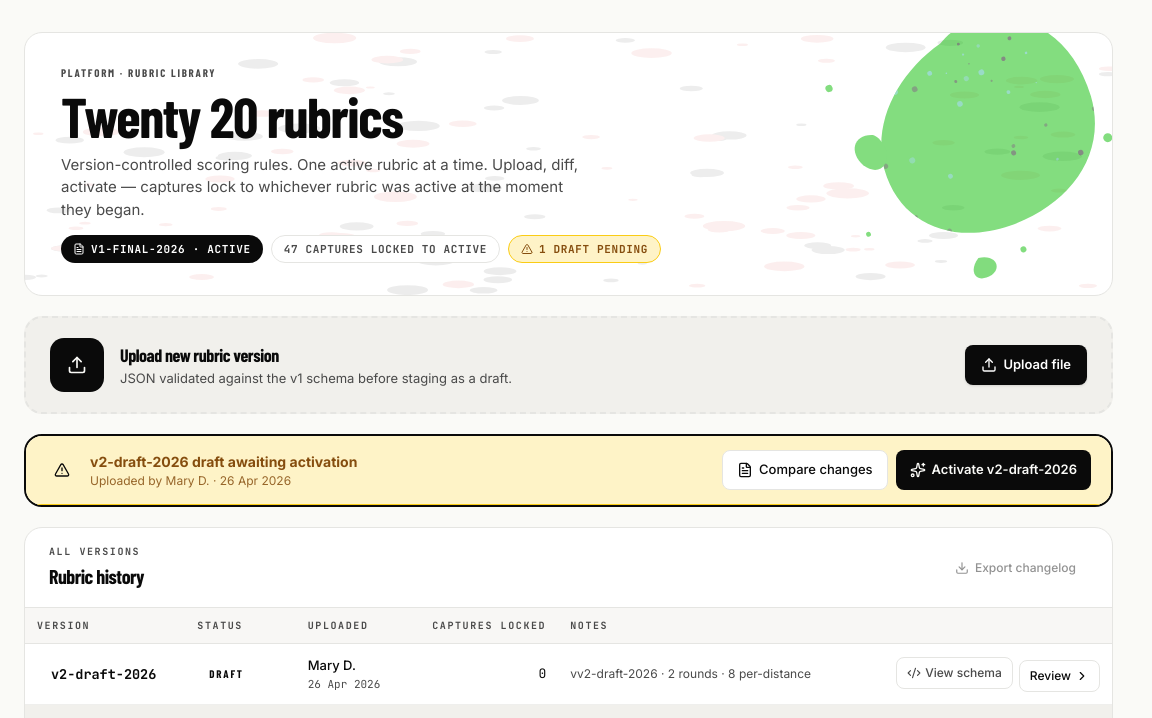
Test case: <RubricsClient /> — activate modal › Activate Now is disabled until the acknowledge checkbox is ticked
Step 1. Click the button "Activate v2-draft-2026" → (993, 470), box [896, 450, 1091, 490]
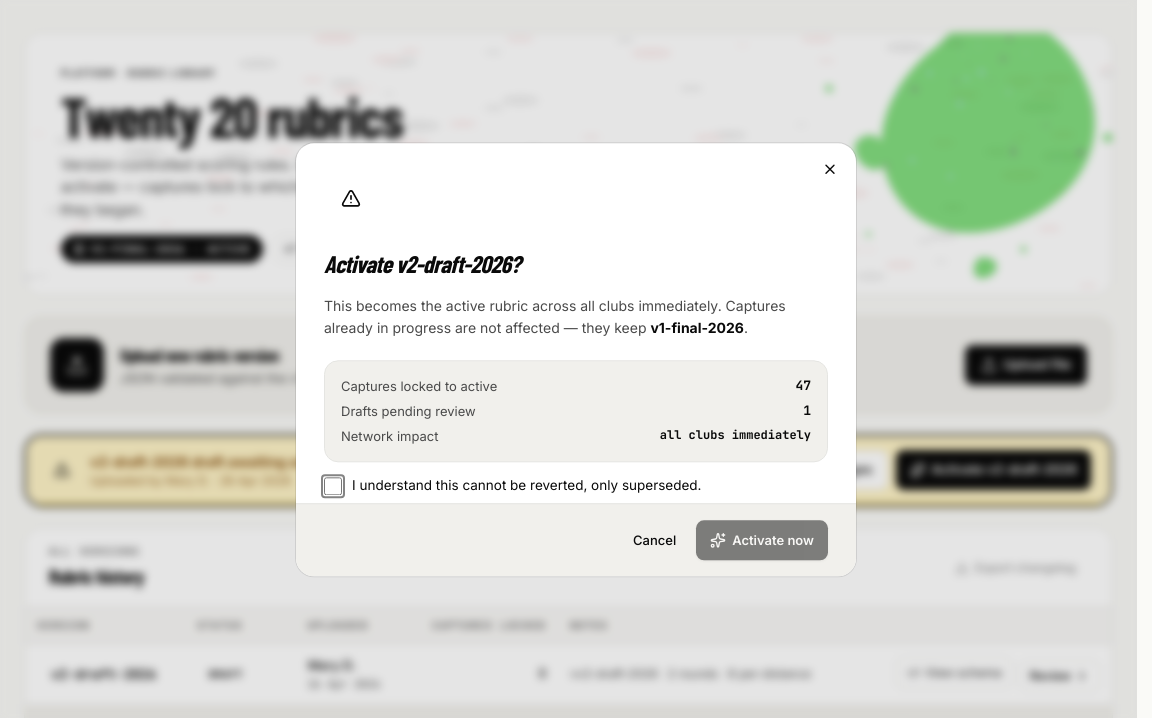
Result: the button "Activate now" is disabled at [696, 521, 828, 561]
Step 2. Click the checkbox labelled "I understand this cannot be reverted, only superseded." → (333, 486), box [324, 477, 342, 495]
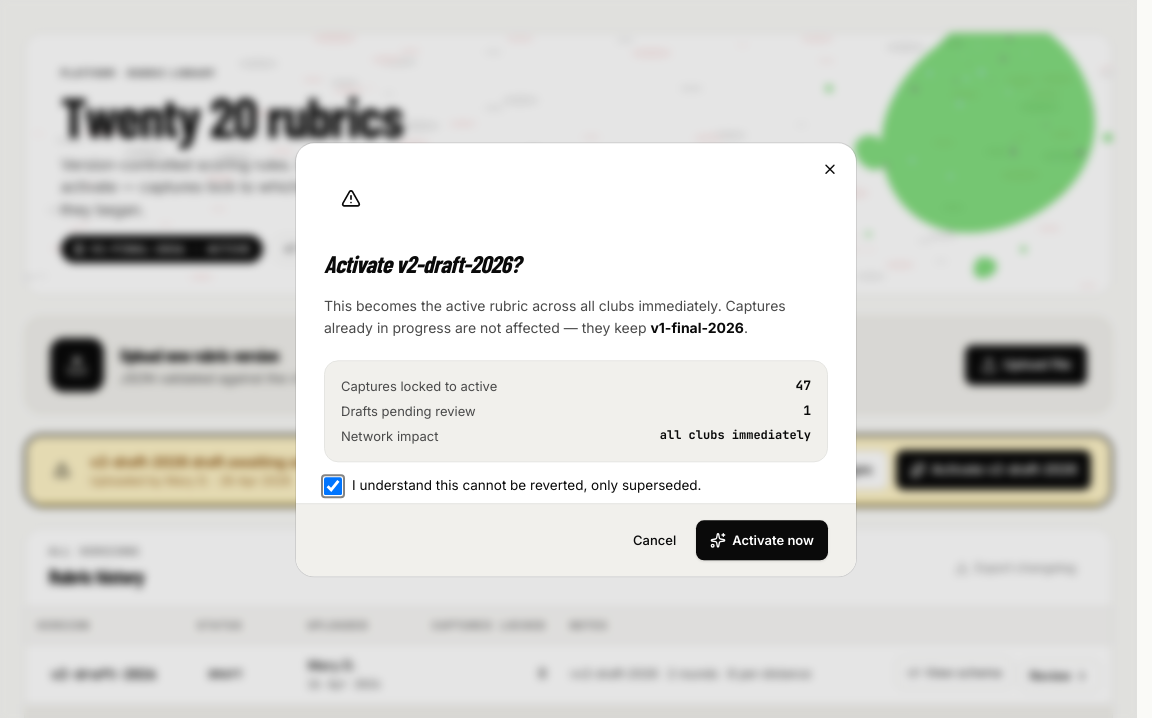
Result: the button "Activate now" is enabled at [696, 521, 828, 561]
